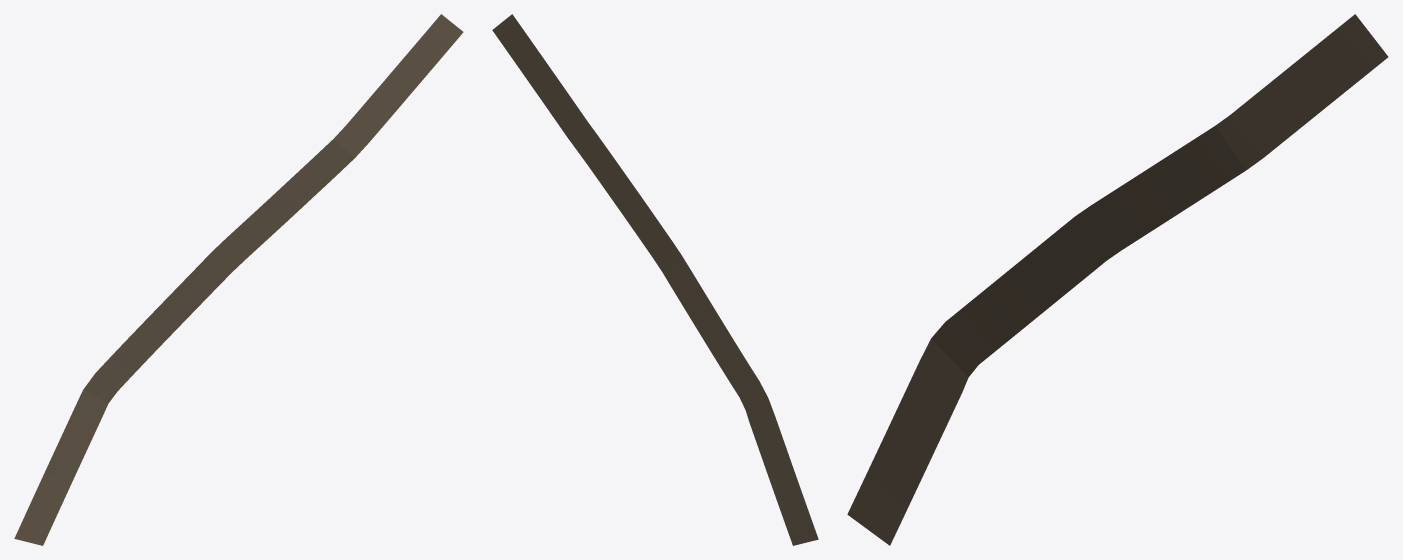
The model's file is SARM_SAR_Track_Snow.glb.
The picture shows the model from 3 angles, left to right: view 1: azimuth 30°, elevation 25°; view 2: azimuth 150°, elevation 25°; view 3: azimuth 330°, elevation 25°; orthographic projection. The views are drawn at different scales.
Parts seen in each view (by area): view 1: SAR_Track_Snow.001; view 2: SAR_Track_Snow.001; view 3: SAR_Track_Snow.001.
Part boxes in pixels (x1,y1,x2,y2): SAR_Track_Snow.001: (14,14,463,545); SAR_Track_Snow.001: (492,14,818,545); SAR_Track_Snow.001: (847,14,1388,545).
Size of the model in its own units: 51.22 by 57.27 by 9.24.
